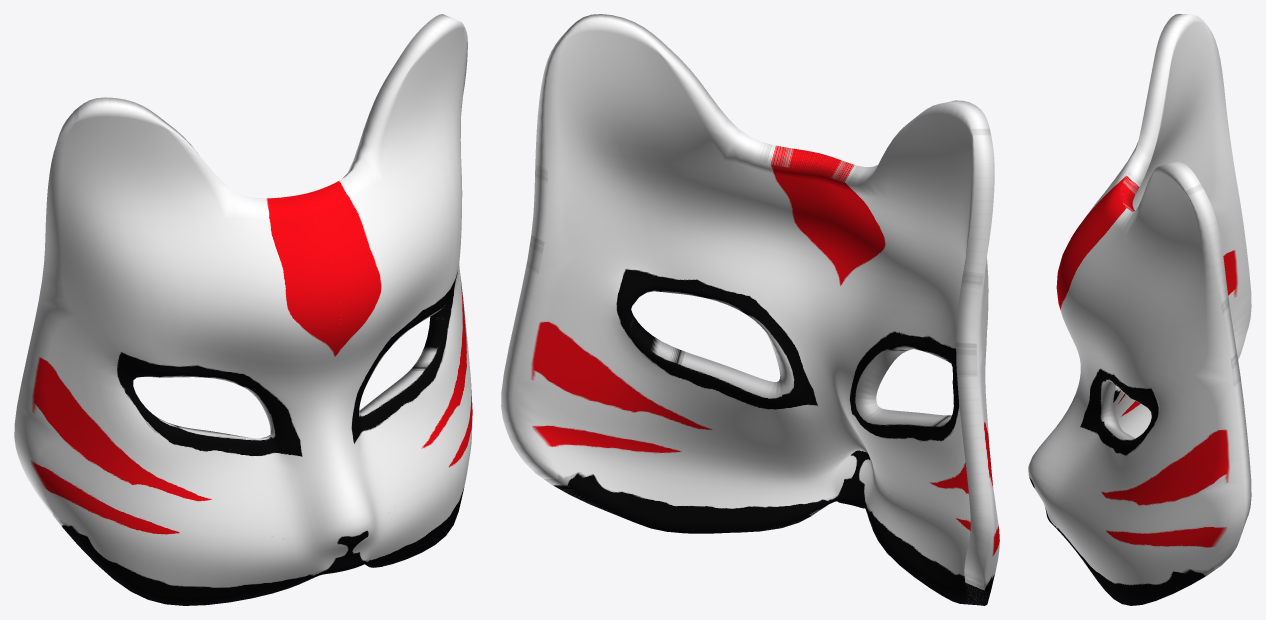
3 renders of one model, left to right at view 1: azimuth 30°, elevation 25°; view 2: azimuth 150°, elevation 25°; view 3: azimuth 270°, elevation 25°, orthographic. The views are drawn at different scales.
Visible parts, largest first — view 1: Mask Cat; view 2: Mask Cat; view 3: Mask Cat.
Boxes of the visible parts, box(x1,y1,x2,y2) form: Mask Cat: box(14, 14, 472, 605); Mask Cat: box(501, 14, 999, 605); Mask Cat: box(1028, 14, 1251, 605).
Size of the model in its own units: 4.03 by 4.18 by 1.87.
1 material, 1 textured.
